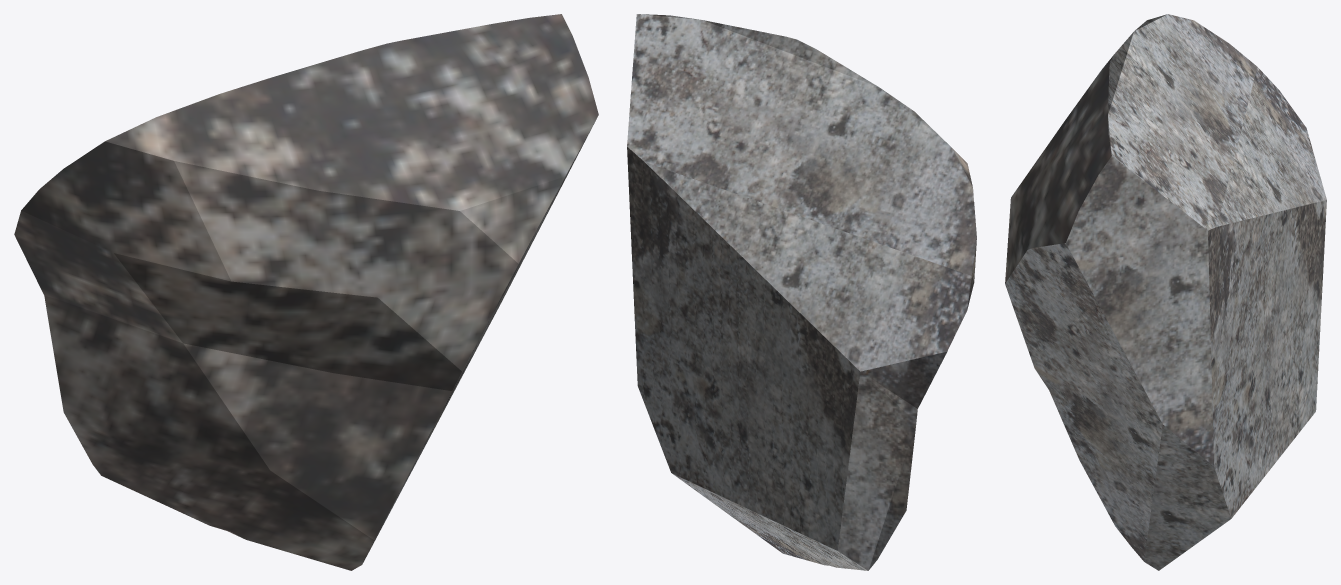
File: Asteroid_Medium_001_02_002_03_009.fbx
3 views of the same model, side by side, from view 1: azimuth 30°, elevation 25°; view 2: azimuth 150°, elevation 25°; view 3: azimuth 270°, elevation 25° (orthographic). The views are drawn at different scales.
Visible parts, largest first — view 1: Asteroid_Medium_001_02_002_03_009; view 2: Asteroid_Medium_001_02_002_03_009; view 3: Asteroid_Medium_001_02_002_03_009.
Boxes of the visible parts, x1,y1,x2,y2 form: Asteroid_Medium_001_02_002_03_009: (14, 14, 598, 570); Asteroid_Medium_001_02_002_03_009: (627, 14, 976, 570); Asteroid_Medium_001_02_002_03_009: (1005, 14, 1326, 570).
Size of the model in its own units: 13.88 by 15.52 by 8.81.
